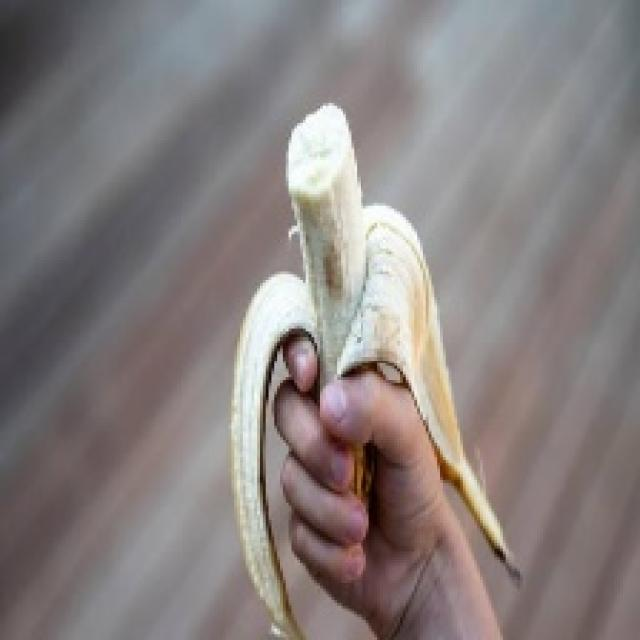Banana: (228, 100, 523, 637)
